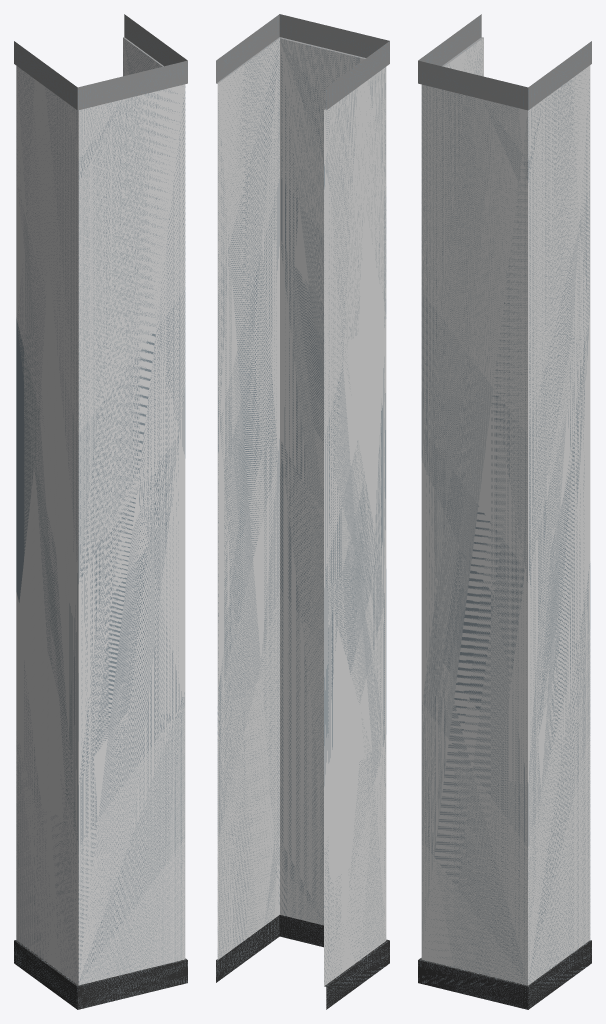
The model's file is Column_os_plinth_050x050x4.dae.
3 renders of one model, left to right at view 1: azimuth 30°, elevation 25°; view 2: azimuth 150°, elevation 25°; view 3: azimuth 330°, elevation 25°, orthographic.
Visible parts, largest first — view 1: group_0 (×3); view 2: group_0 (×3); view 3: group_0 (×3).
Part boxes in pixels (x1=…): group_0 (×3): x1=14, y1=14, x2=187, y2=1009; group_0 (×3): x1=216, y1=14, x2=389, y2=1009; group_0 (×3): x1=418, y1=14, x2=591, y2=1009.
Size of the model in its own units: 19.69 by 19.69 by 157.
